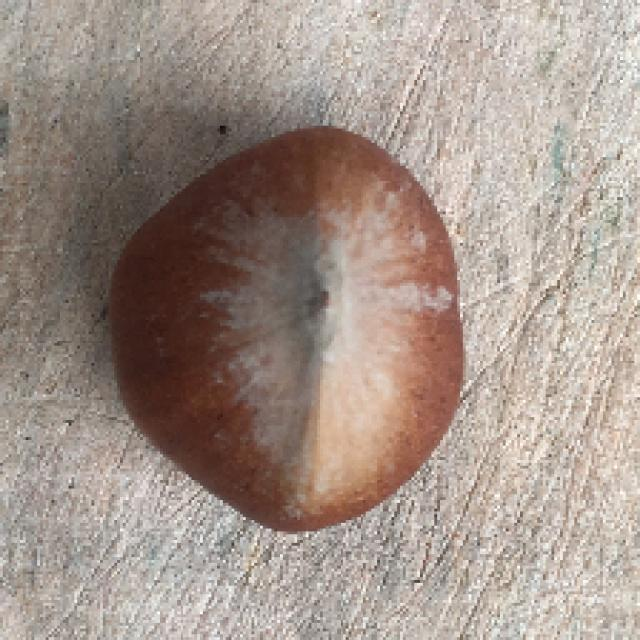qualityHazelnut: (101, 115, 474, 532)
